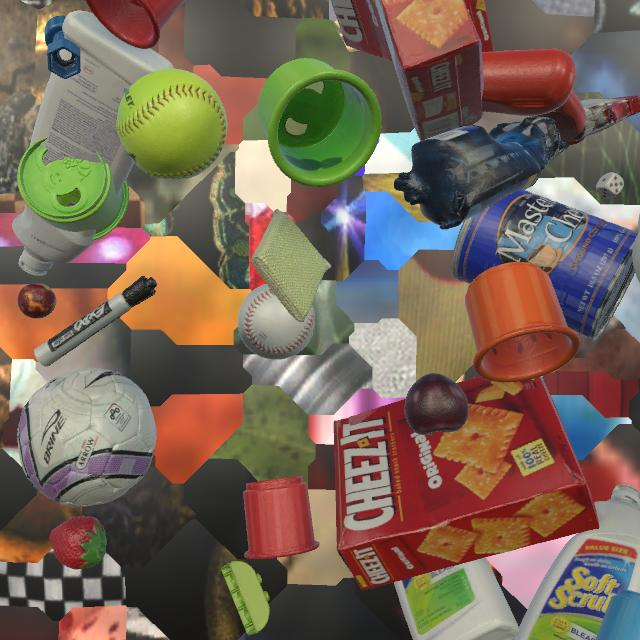ycb_002_master_chef_can: (451, 190, 638, 341)
ycb_003_cracker_box: (334, 376, 600, 590), (375, 0, 484, 141), (331, 0, 494, 62)
ycb_012_strawberry: (49, 516, 106, 570)
ycb_018_plum: (404, 373, 469, 435)
